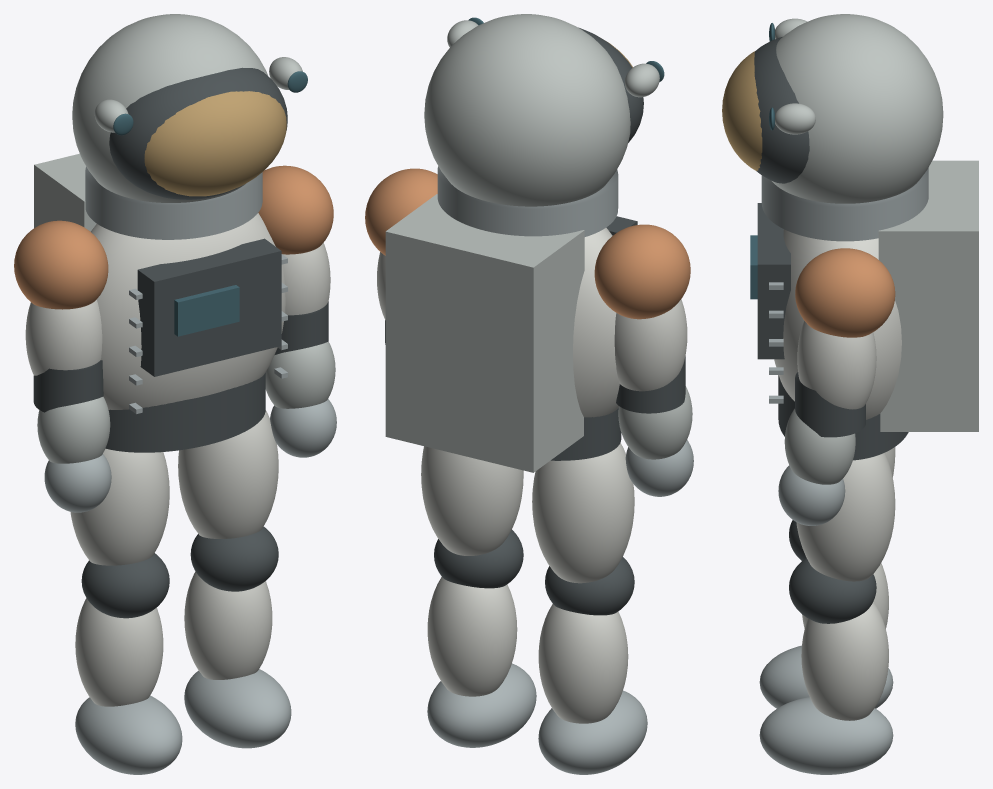
The model's file is field-suit.glb.
3 views of the same model, side by side, from view 1: azimuth 30°, elevation 25°; view 2: azimuth 150°, elevation 25°; view 3: azimuth 270°, elevation 25° (orthographic). The views are drawn at different scales.
Parts seen in each view (by area): view 1: Thigh (×2), Shin (×2), Helmet, Suit torso, Chest console, Boot (×2), Shoulder (×2), Visor, Knee (×2), Forearm (×2), Sleeve (×2), Waist seal (+7 smaller); view 2: Life support pack, Helmet, Thigh (×2), Shin (×2), Boot (×2), Shoulder (×2), Knee (×2), Collar, Suit torso, Sleeve, Forearm, Glove (+4 smaller); view 3: Helmet, Life support pack, Boot (×2), Shin (×2), Thigh, Shoulder, Collar, Suit torso, Sleeve, Visor frame, Chest console, Knee (+7 smaller).
Boxes of the visible parts, <box> form: Thigh (×2): <box>70,410,278,565</box>; Shin (×2): <box>75,571,272,706</box>; Helmet: <box>72,14,268,202</box>; Suit torso: <box>91,213,285,409</box>; Chest console: <box>137,238,281,376</box>; Boot (×2): <box>75,669,291,774</box>; Shoulder (×2): <box>14,165,333,309</box>; Visor: <box>144,91,286,196</box>; Knee (×2): <box>81,526,278,618</box>; Forearm (×2): <box>37,341,335,463</box>; Sleeve (×2): <box>25,243,330,375</box>; Waist seal: <box>105,373,265,452</box>; Life support pack: <box>385,194,584,472</box>; Helmet: <box>424,14,630,206</box>; Thigh (×2): <box>421,443,634,583</box>; Shin (×2): <box>427,577,628,723</box>; Boot (×2): <box>427,663,647,774</box>; Shoulder (×2): <box>365,168,690,319</box>; Knee (×2): <box>434,529,634,615</box>; Collar: <box>437,166,618,236</box>; Suit torso: <box>573,227,619,417</box>; Sleeve: <box>614,299,687,391</box>; Forearm: <box>618,386,692,459</box>; Glove: <box>625,440,693,496</box>; Helmet: <box>772,14,943,203</box>; Life support pack: <box>878,160,978,431</box>; Boot (×2): <box>759,645,893,774</box>; Shin (×2): <box>801,563,888,720</box>; Thigh: <box>796,453,895,581</box>; Shoulder: <box>795,248,895,337</box>; Collar: <box>761,168,928,241</box>; Suit torso: <box>774,229,901,419</box>; Sleeve: <box>797,321,876,409</box>; Visor frame: <box>754,37,809,183</box>; Chest console: <box>757,203,790,359</box>; Knee: <box>789,558,876,623</box>.
Bounding box in the file's own units: 0.84 × 1.9 × 0.615.
